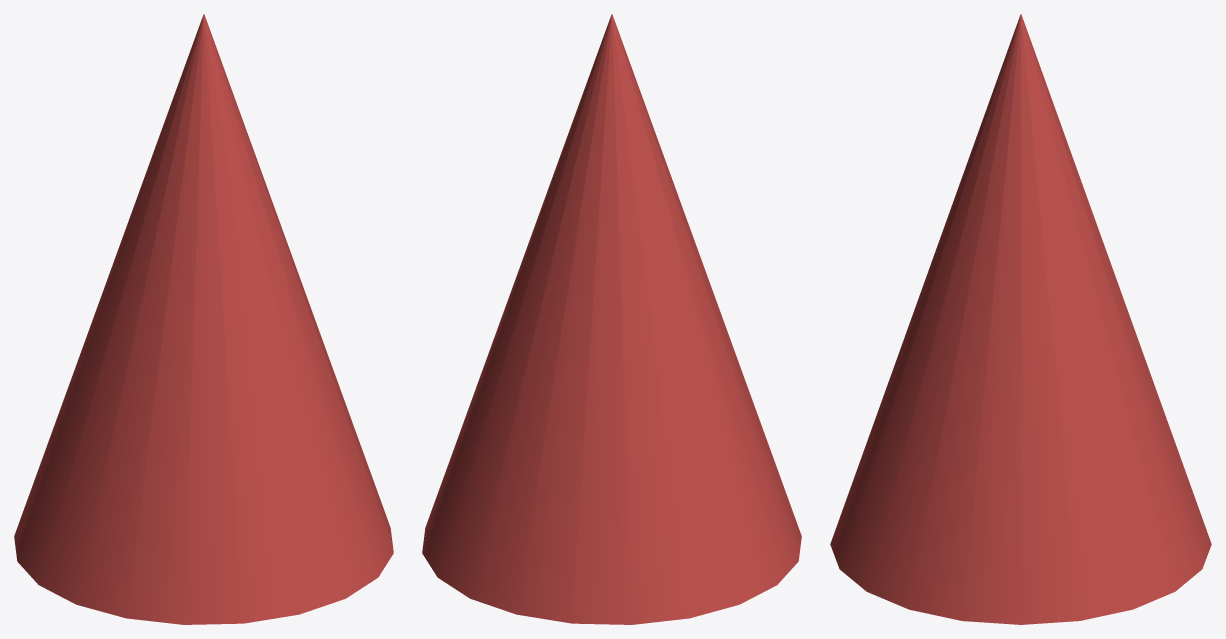
The model's file is teki1.fbx.
3 views of the same model, side by side, from view 1: azimuth 30°, elevation 25°; view 2: azimuth 150°, elevation 25°; view 3: azimuth 270°, elevation 25° (orthographic).
Parts seen in each view (by area): view 1: pCylinder1; view 2: pCylinder1; view 3: pCylinder1.
Part boxes in pixels (x1,y1,x2,y2): pCylinder1: (14, 14, 393, 624); pCylinder1: (422, 14, 801, 624); pCylinder1: (830, 14, 1211, 624).
Size of the model in its own units: 1 by 1.53 by 1.
1 material, 1 textured.
